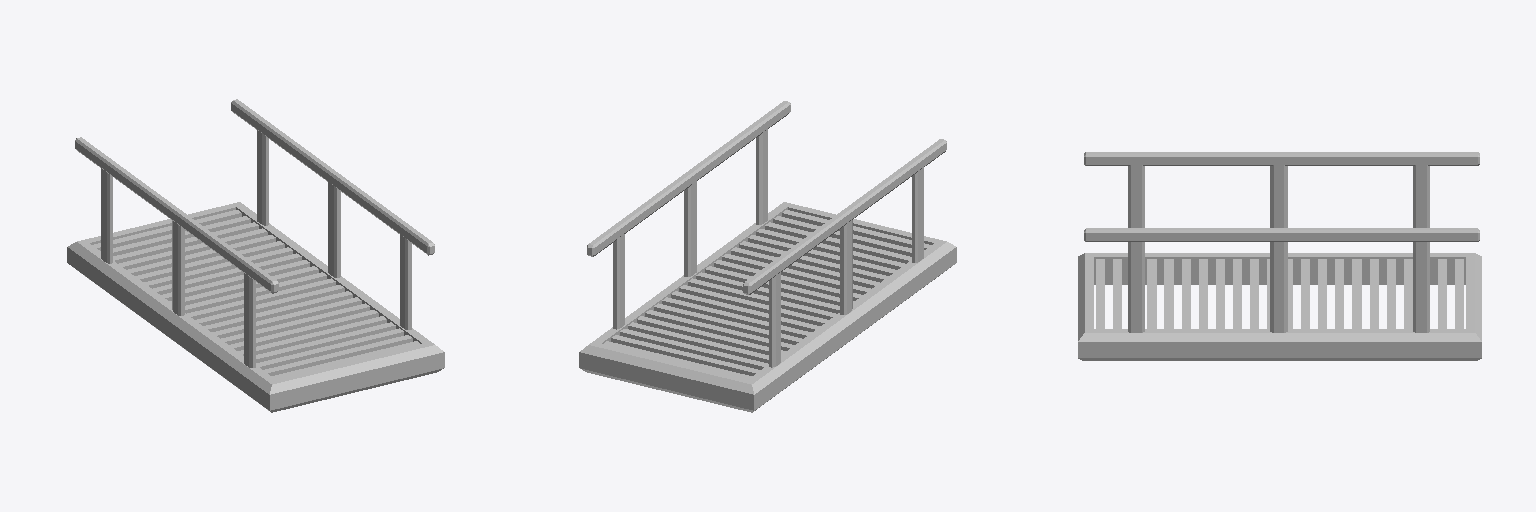
The model's file is Catwalk_1.obj.
3 renders of one model, left to right at view 1: azimuth 30°, elevation 25°; view 2: azimuth 150°, elevation 25°; view 3: azimuth 270°, elevation 25°, orthographic.
Visible parts, largest first — view 1: Catwalk_1; view 2: Catwalk_1; view 3: Catwalk_1.
Boxes of the visible parts, x1=… form: Catwalk_1: x1=67, y1=99, x2=444, y2=412; Catwalk_1: x1=579, y1=101, x2=956, y2=412; Catwalk_1: x1=1078, y1=152, x2=1481, y2=360.
Size of the model in its own units: 2 by 1.42 by 4.